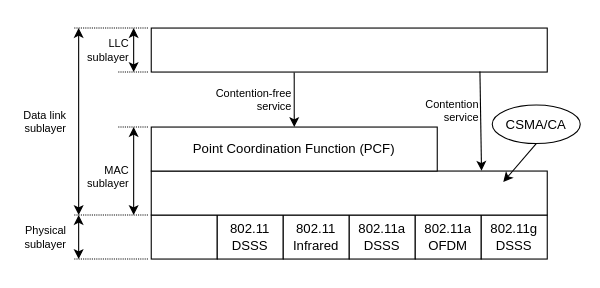
The diagram is 600 pixels wide and 288 high, and some of its shapes have lost their labels. Each missing label, with the centre of its shape:
"802.11 FHSS" goes at (183,236).
"Distributed Coordination Function (DCF)" goes at (348,192).
"IEEE 802.1" goes at (348,49).
